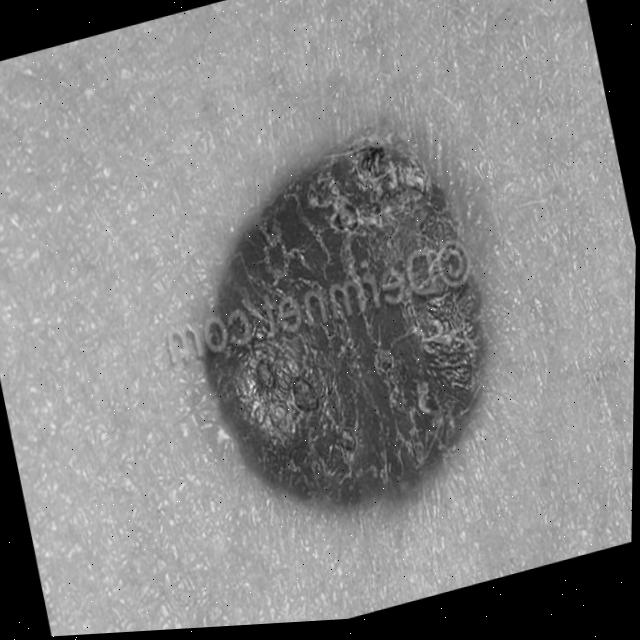Eczema: (189, 125, 479, 491)
